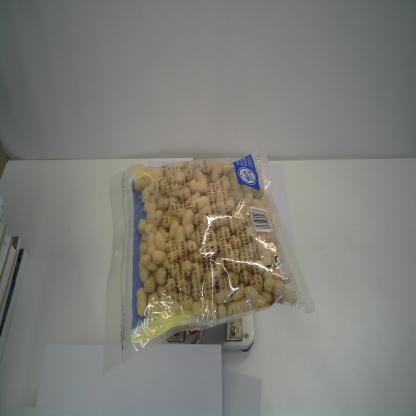Dried Food: (99, 150, 316, 376)
